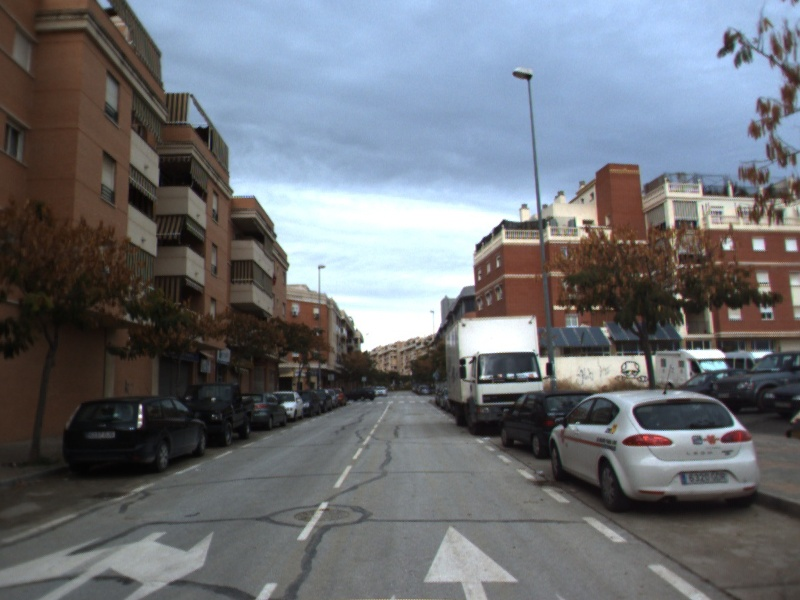STRAIGHT: (420, 521, 522, 600)
